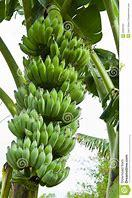banana: (10, 13, 91, 189)
